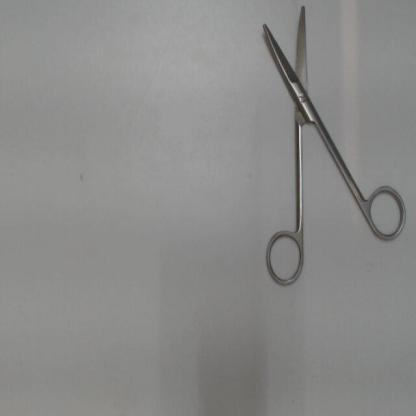Curved Mayo Scissors: (260, 3, 411, 293)
